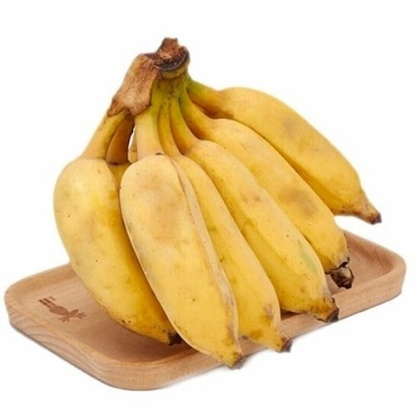chuoi: (57, 13, 372, 372)
